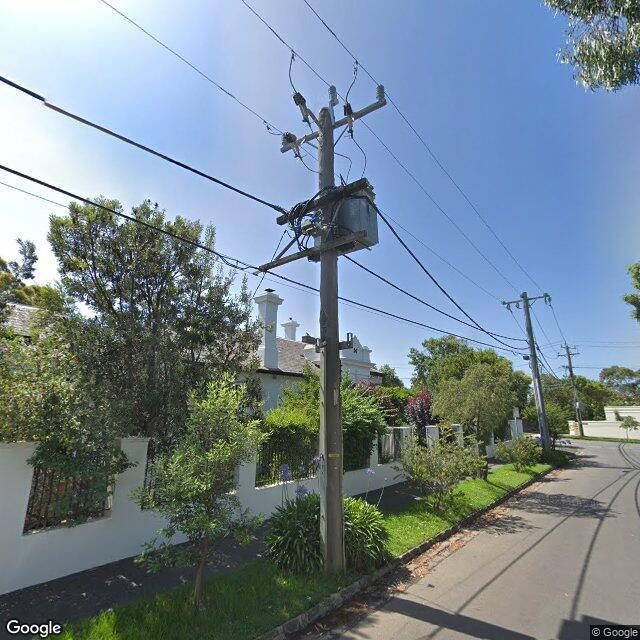HV-transmission: (280, 50, 388, 154)
crossarm: (280, 100, 387, 152), (259, 228, 368, 273), (276, 178, 371, 226), (502, 292, 552, 314), (558, 352, 580, 357)
timber-pole: (320, 106, 346, 574), (521, 292, 553, 459), (566, 346, 584, 436)
transformer: (300, 189, 380, 263)
